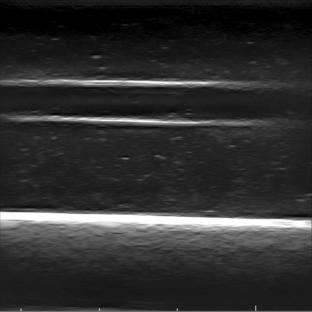vessel: (0, 78, 299, 130)
